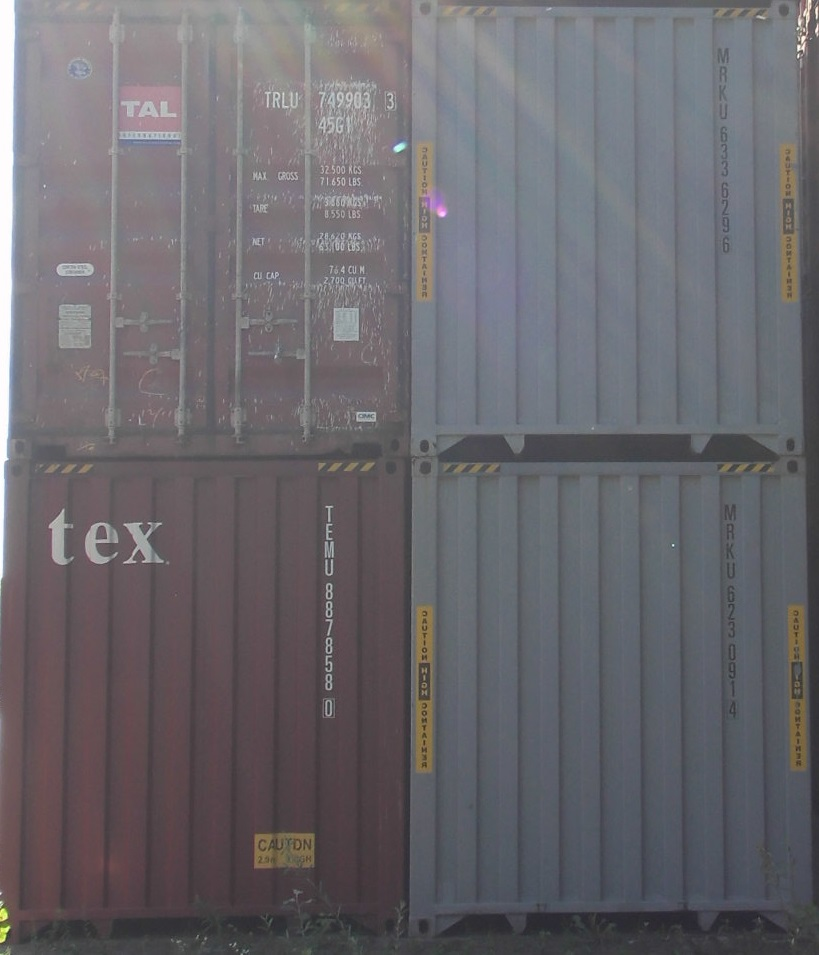container_door: (11, 1, 410, 458)
container_no_door: (3, 459, 409, 942), (412, 460, 811, 940), (411, 3, 805, 459)
